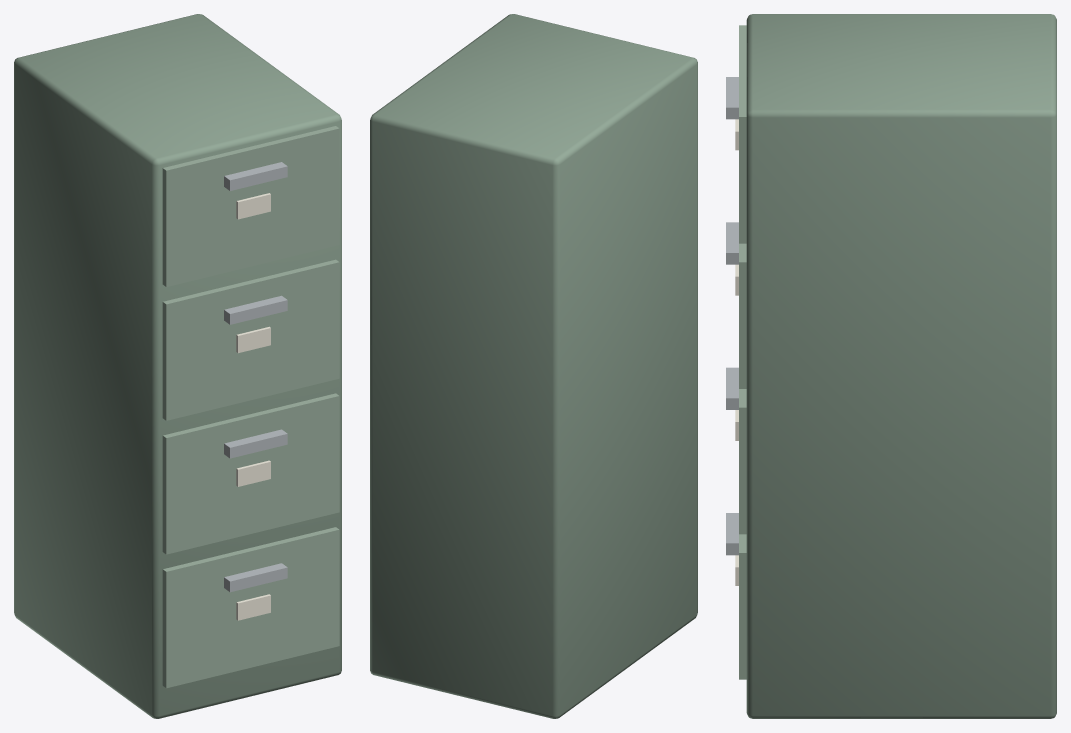
The model's file is filing_cabinet.gltf.
3 views of the same model, side by side, from view 1: azimuth 30°, elevation 25°; view 2: azimuth 150°, elevation 25°; view 3: azimuth 270°, elevation 25° (orthographic). The views are drawn at different scales.
Visible parts, largest first — view 1: filing_cabinet_mesh; view 2: filing_cabinet_mesh; view 3: filing_cabinet_mesh.
Part boxes in pixels (x1,y1,x2,y2): filing_cabinet_mesh: (14,14,341,718); filing_cabinet_mesh: (370,14,697,718); filing_cabinet_mesh: (726,14,1056,718).
Bounding box in the file's own units: 0.46 × 1.3 × 0.64.
